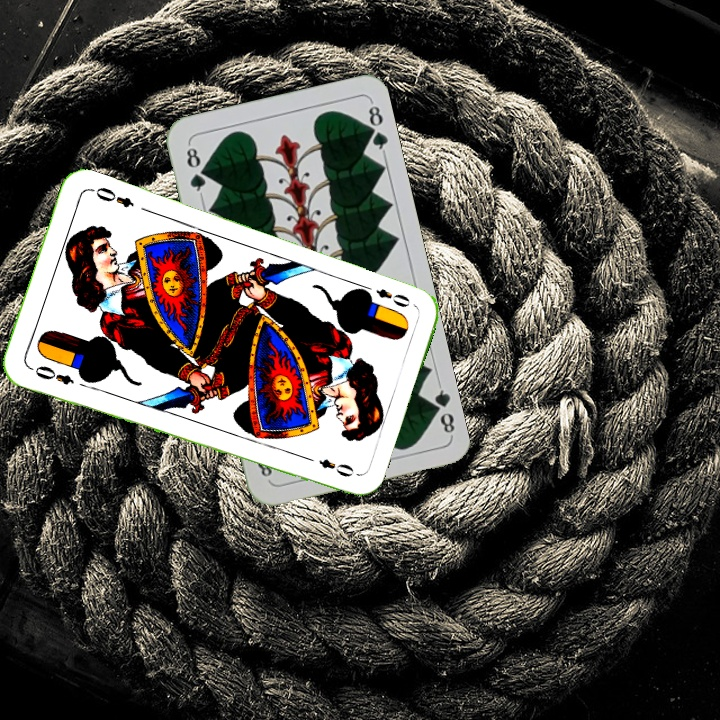EO: (25, 361, 77, 388), (371, 284, 413, 310)
G8: (424, 380, 458, 438), (182, 140, 209, 199)
